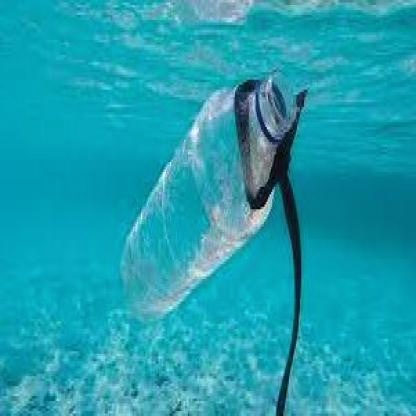pbottle: (108, 58, 298, 326)
